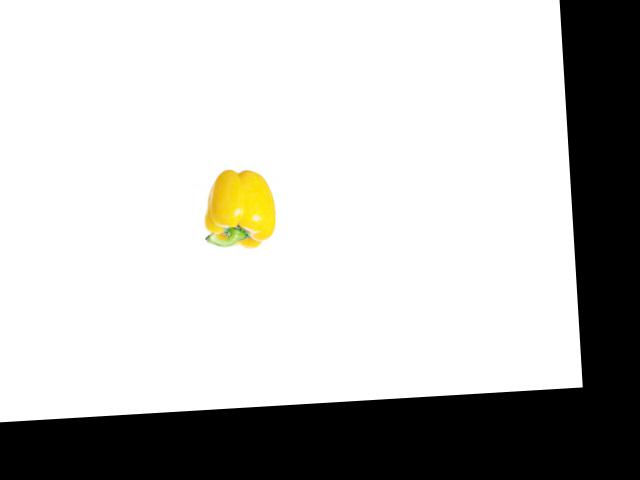bell_pepper: (193, 163, 284, 258)
